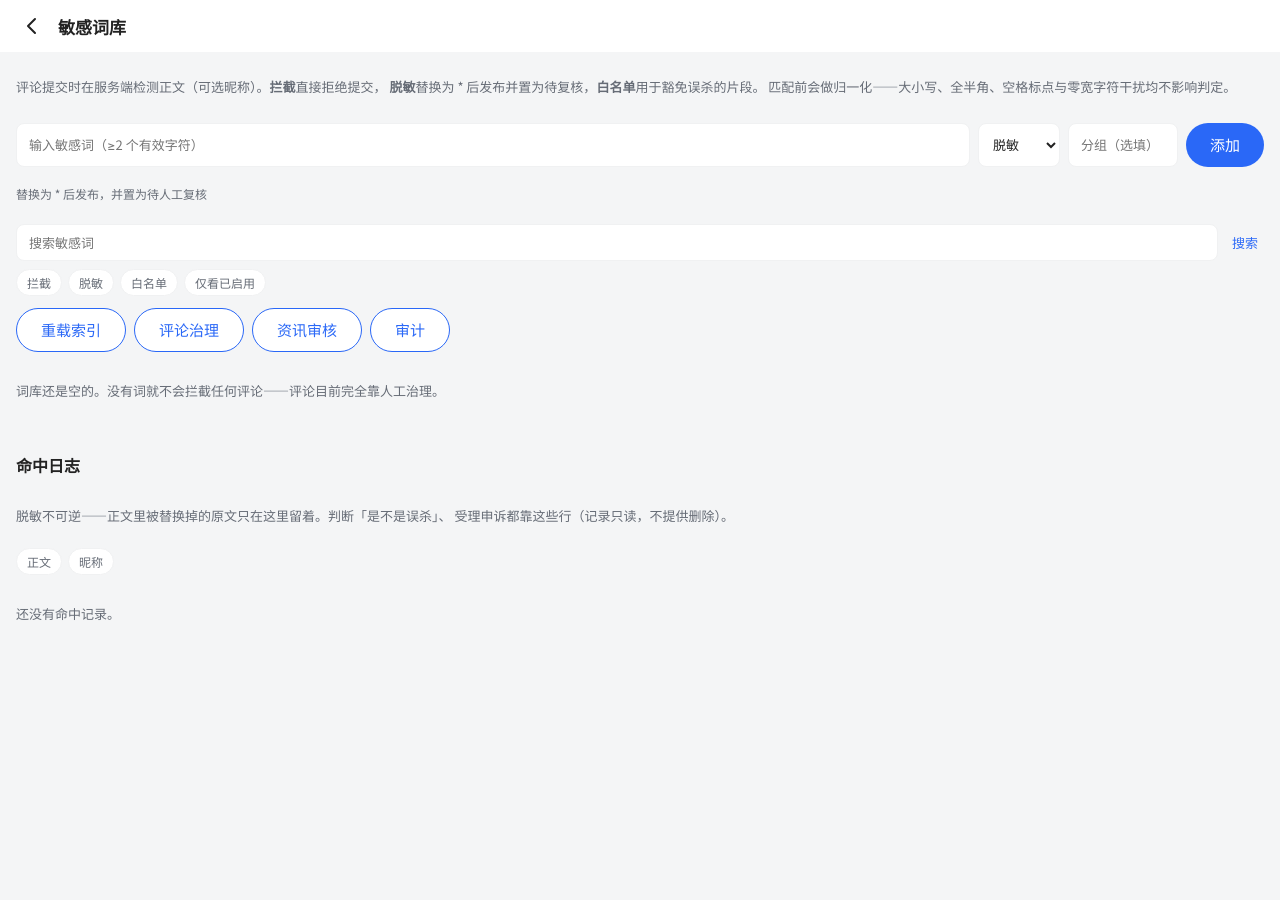
Scenario: views/AdminWords 新增与维护 › 后端拒绝（太短 42201 / 重复 40905）时错误留在表单下方
Type "傻!" into the field named "敏感词" at (493, 145), box left=16, top=123, right=970, bottom=167
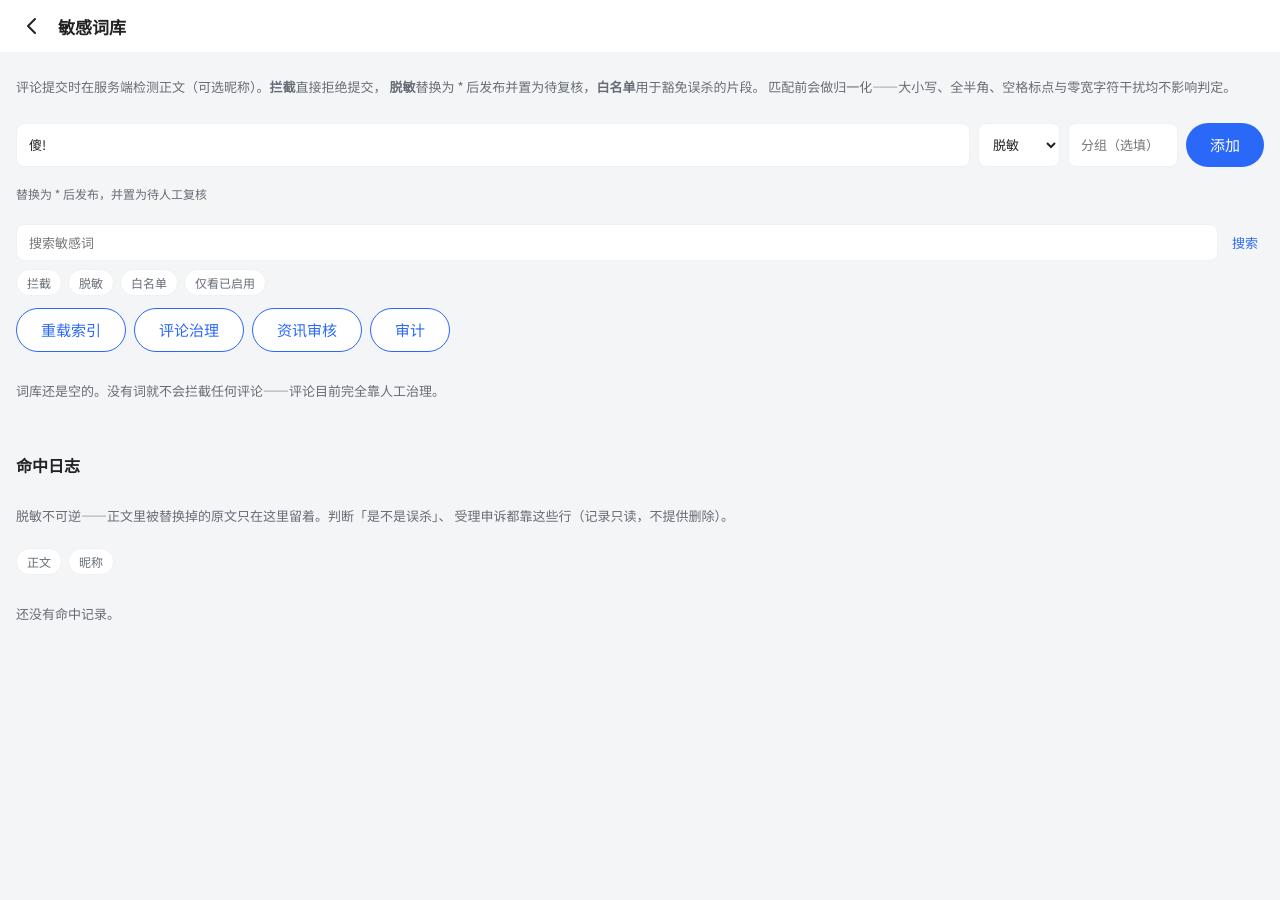
Click the button "添加" at (1225, 145), box left=1186, top=123, right=1264, bottom=167
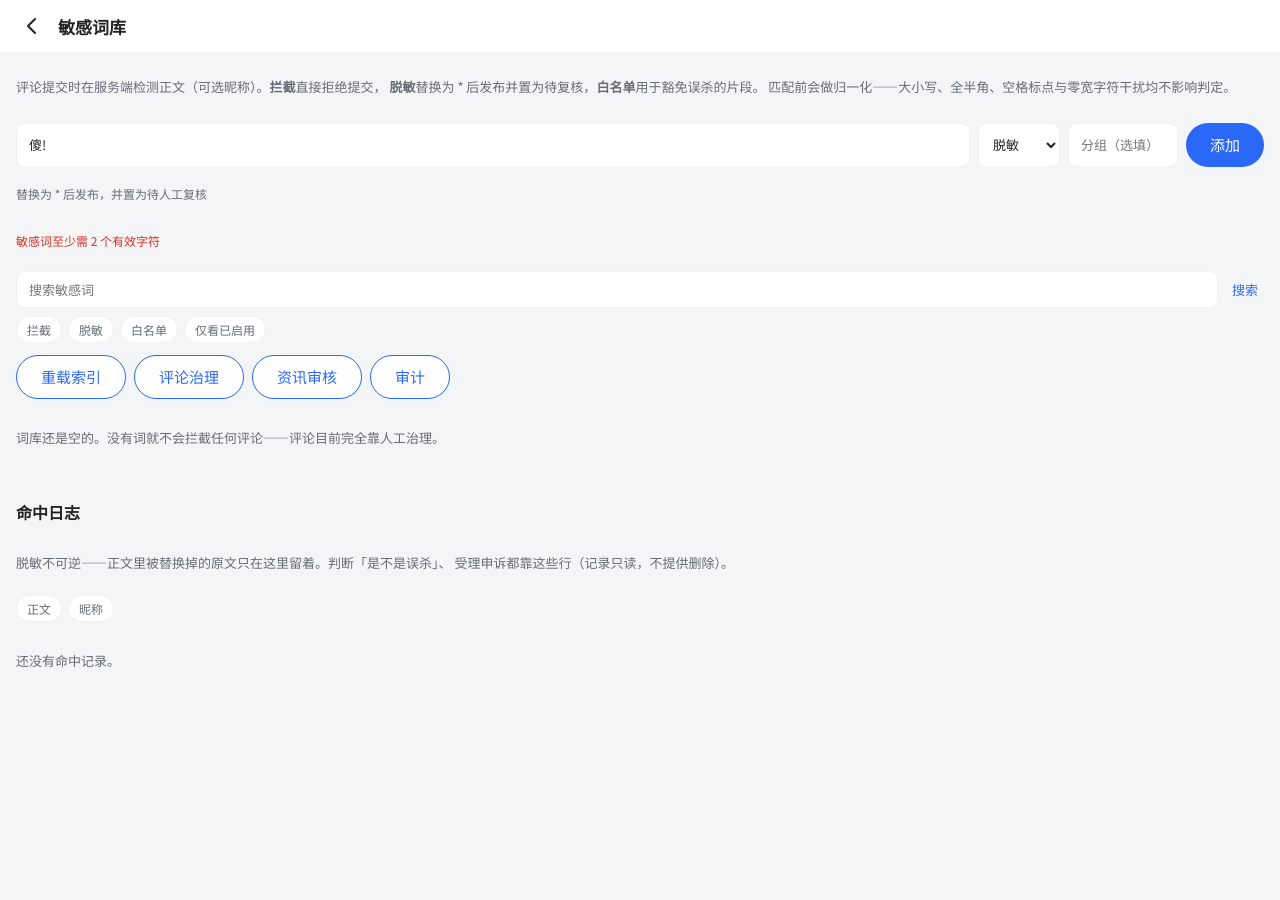
Check: the text "敏感词至少需 2 个有效字符" is shown, box left=16, top=232, right=160, bottom=249
